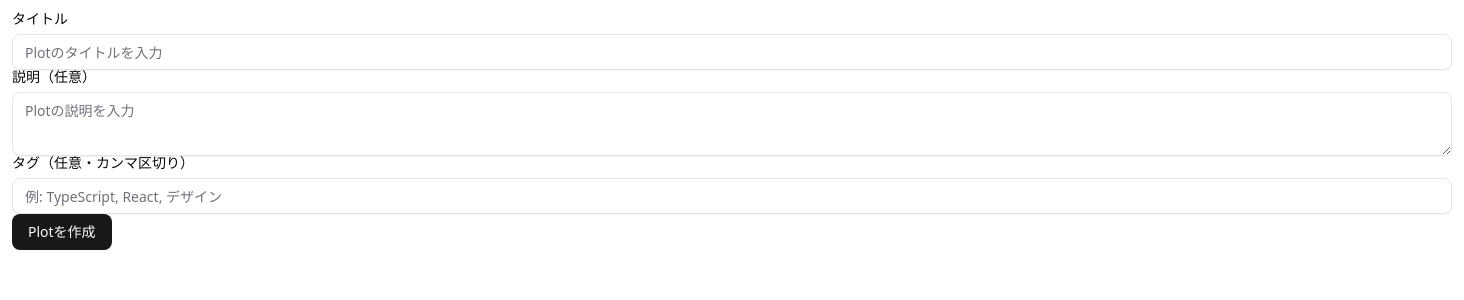
Scenario: PlotForm › タグ機能 › Enterキーでタグが追加される
The image size is (1464, 300).
Type "React" into the field with placeholder "例: TypeScript, React, デザイン". click: (732, 196)
box: [12,178,1452,214]
Then press Enter
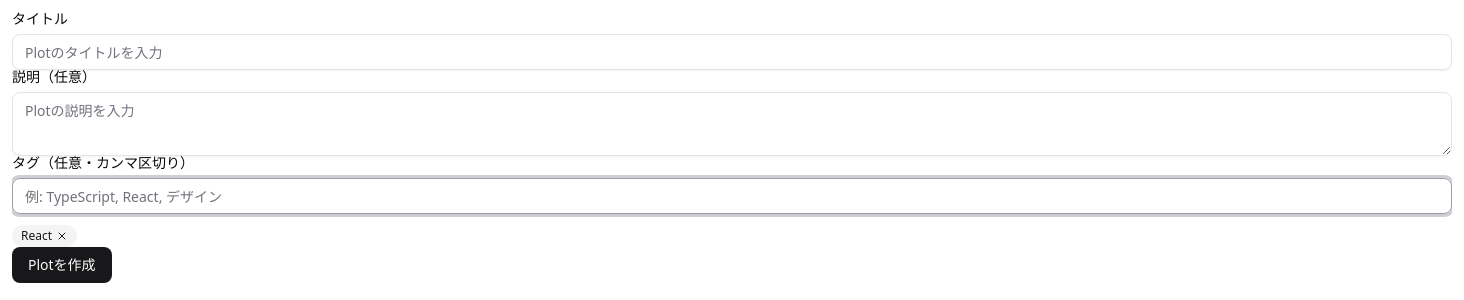
Expected: the text "React" is shown, [12,225,77,247]
